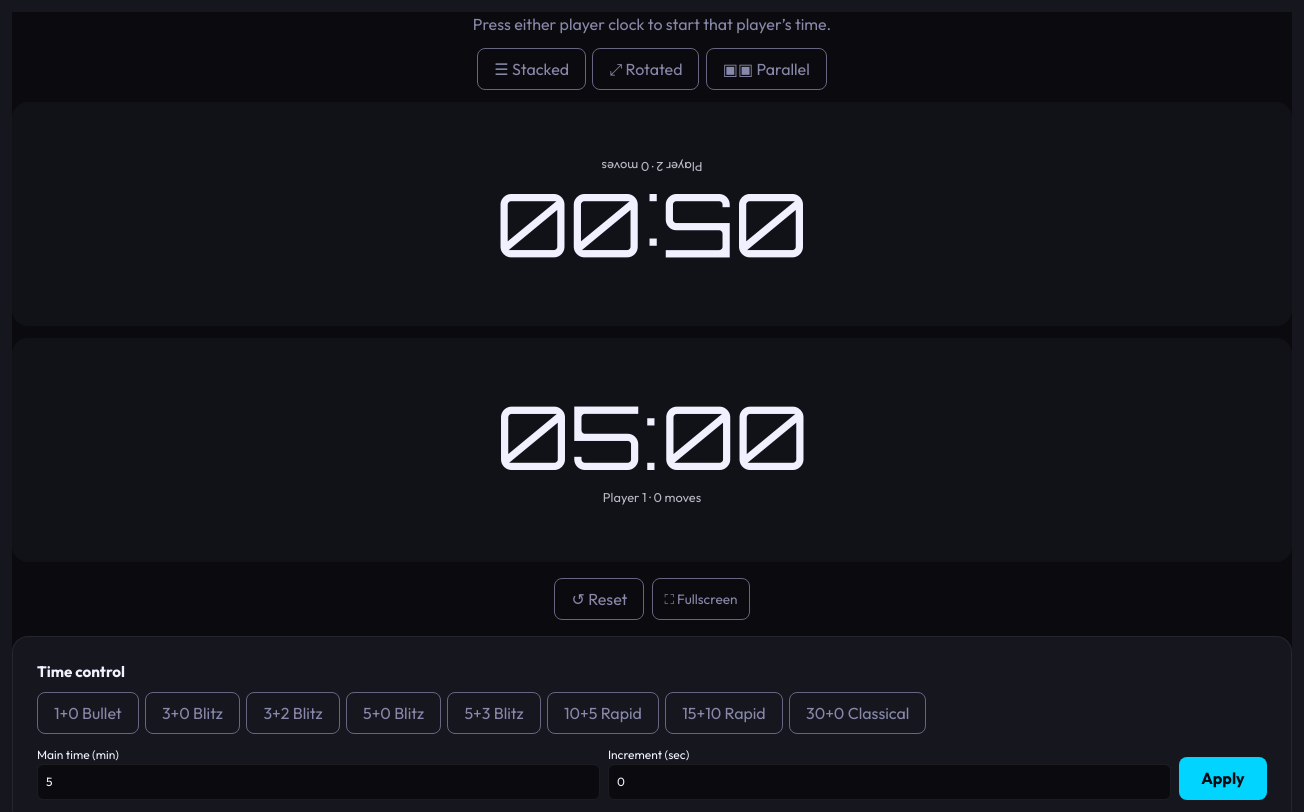
Test case: ChessClockClient input behavior › starts the selected player on a primary mouse press
The image size is (1304, 812).
Press the mouse on the button "05:00 Player 1 · 0 moves" at coordinates (652, 450), box x1=12 y1=338 x2=1292 y2=562
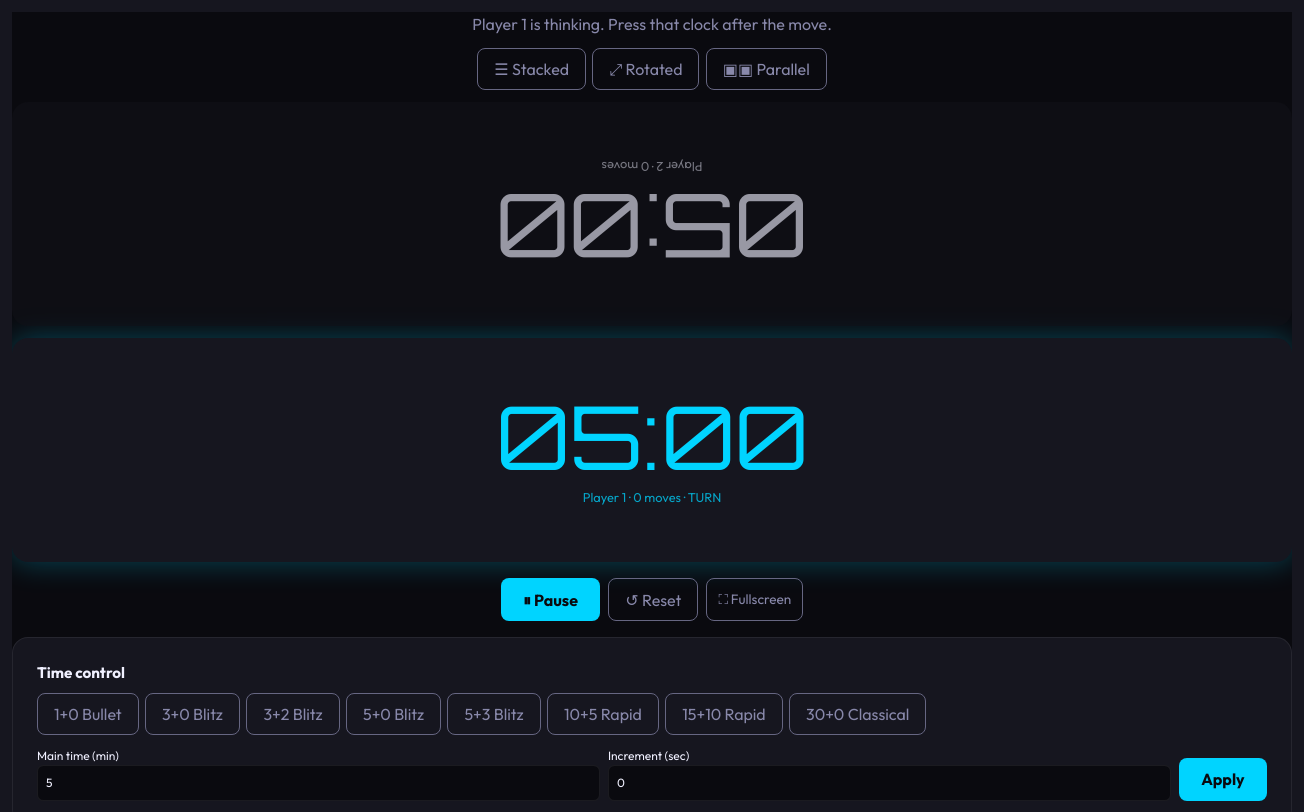
Check: the text "Player 1 is thinking. Press that clock after the move." is shown, box x1=472 y1=14 x2=832 y2=34
